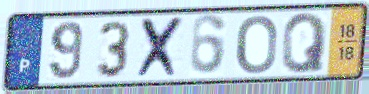3: (94, 19, 132, 80)
6: (189, 12, 229, 81)
9: (47, 19, 85, 82)
O: (234, 14, 279, 77)
Q: (280, 11, 330, 76)
X: (134, 14, 189, 81)
